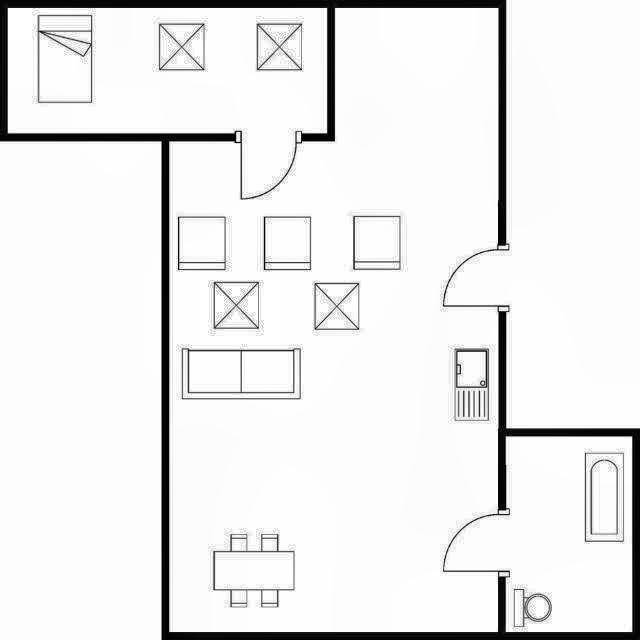room: (169, 9, 497, 632), (8, 10, 327, 133), (507, 436, 631, 631)
